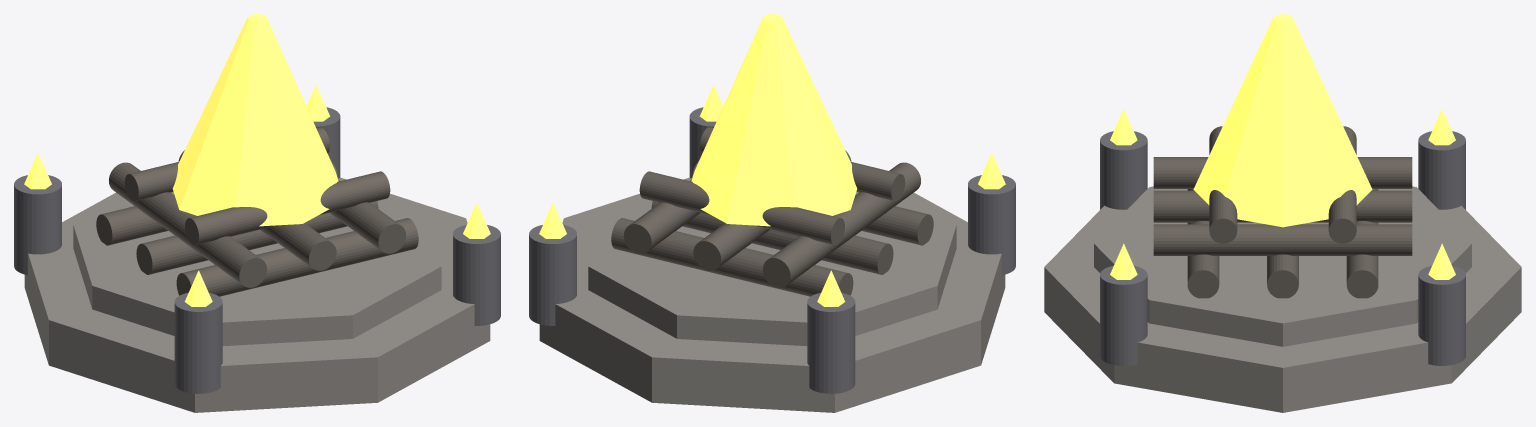
The model's file is funeral_pyre.glb.
The picture shows the model from 3 angles, left to right: view 1: azimuth 30°, elevation 25°; view 2: azimuth 150°, elevation 25°; view 3: azimuth 270°, elevation 25°; orthographic projection.
Parts seen in each view (by area): view 1: Cylinder, Cylinder.001, Cone, Cylinder.002, Cylinder.010, Cylinder.005, Cylinder.008, Cylinder.011, Cylinder.012, Cylinder.003, Cylinder.007, Cylinder.006 (+7 smaller); view 2: Cylinder, Cylinder.001, Cone, Cylinder.004, Cylinder.012, Cylinder.005, Cylinder.009, Cylinder.013, Cylinder.010, Cylinder.003, Cylinder.007, Cylinder.006 (+7 smaller); view 3: Cylinder, Cylinder.001, Cone, Cylinder.007, Cylinder.011, Cylinder.013, Cylinder.006, Cylinder.010, Cylinder.012, Cylinder.005, Cylinder.008, Cylinder.009 (+7 smaller).
Part boxes in pixels (bbox=[...]): Cylinder: bbox=[24, 177, 490, 412]; Cylinder.001: bbox=[73, 178, 441, 346]; Cone: bbox=[172, 14, 338, 226]; Cylinder.002: bbox=[176, 218, 418, 296]; Cylinder.010: bbox=[174, 292, 222, 393]; Cylinder.005: bbox=[109, 162, 266, 287]; Cylinder.008: bbox=[185, 171, 390, 245]; Cylinder.011: bbox=[453, 225, 500, 325]; Cylinder.012: bbox=[14, 175, 61, 275]; Cylinder.003: bbox=[136, 201, 378, 274]; Cylinder.007: bbox=[329, 180, 406, 253]; Cylinder.006: bbox=[178, 150, 336, 270]; Cylinder: bbox=[539, 177, 1005, 412]; Cylinder.001: bbox=[588, 178, 956, 346]; Cone: bbox=[691, 14, 857, 226]; Cylinder.004: bbox=[611, 218, 853, 296]; Cylinder.012: bbox=[807, 292, 855, 393]; Cylinder.005: bbox=[763, 162, 920, 287]; Cylinder.009: bbox=[639, 171, 844, 245]; Cylinder.013: bbox=[529, 225, 576, 325]; Cylinder.010: bbox=[968, 175, 1015, 275]; Cylinder.003: bbox=[651, 201, 893, 274]; Cylinder.007: bbox=[623, 180, 700, 253]; Cylinder.006: bbox=[693, 150, 851, 270]; Cylinder: bbox=[1044, 205, 1521, 412]; Cylinder.001: bbox=[1094, 186, 1471, 346]; Cone: bbox=[1193, 14, 1372, 227]; Cylinder.007: bbox=[1153, 224, 1412, 255]; Cylinder.011: bbox=[1100, 265, 1147, 365]; Cylinder.013: bbox=[1418, 265, 1465, 365]; Cylinder.006: bbox=[1153, 190, 1412, 222]; Cylinder.010: bbox=[1100, 131, 1147, 209]; Cylinder.012: bbox=[1418, 131, 1465, 209]; Cylinder.005: bbox=[1153, 157, 1412, 188]; Cylinder.008: bbox=[1209, 126, 1237, 243]; Cylinder.009: bbox=[1328, 126, 1356, 243].
Bounding box in the file's own units: 2.4 × 1.63 × 2.4.
